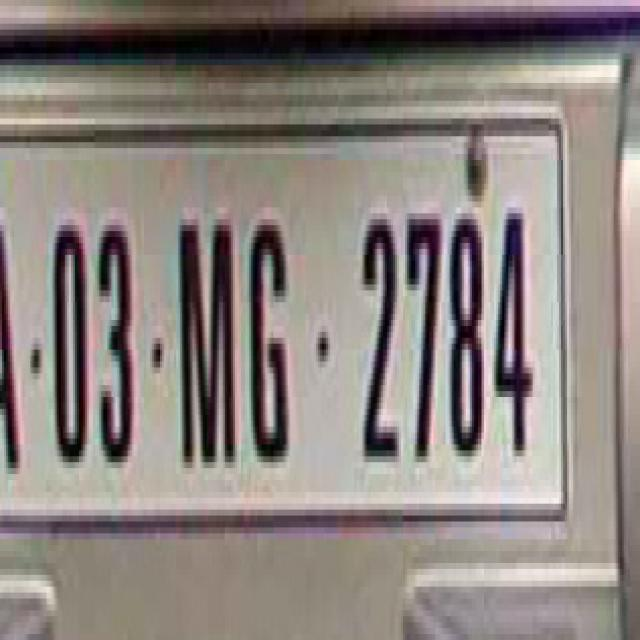0: (48, 215, 92, 487)
3: (96, 221, 136, 482)
7: (404, 196, 442, 474)
8: (491, 206, 533, 478), (444, 193, 484, 458)
G: (244, 200, 296, 487)
M: (172, 205, 244, 490)
